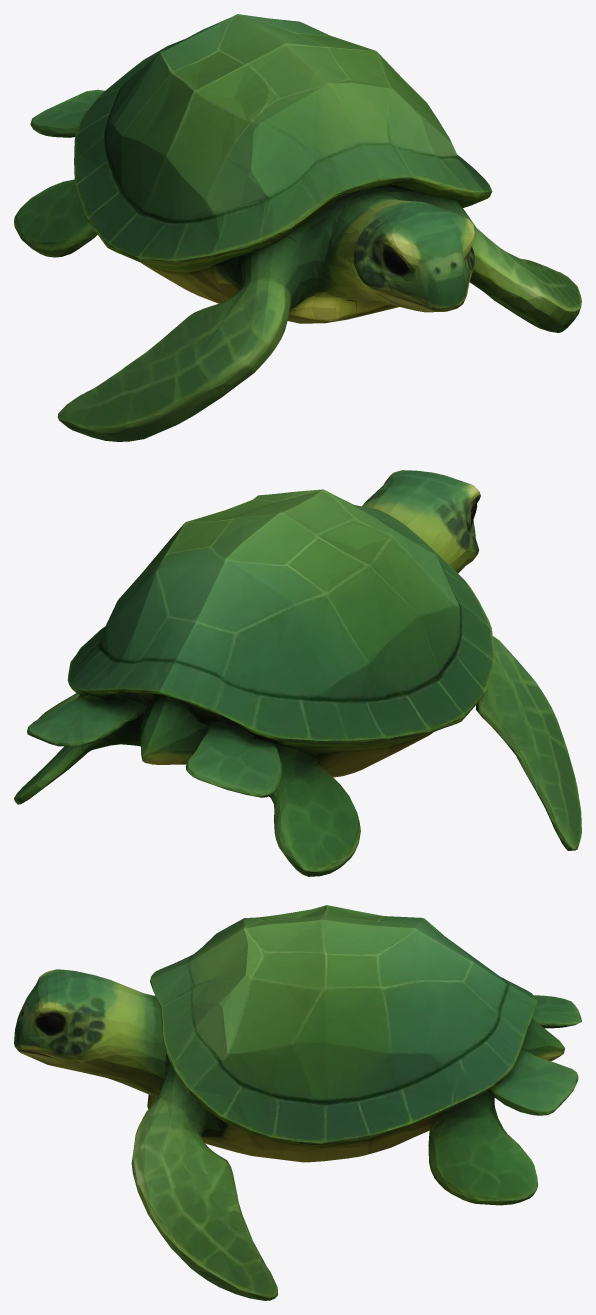
File: aquatic_turtle.glb
3 renders of one model, top to bottom at view 1: azimuth 30°, elevation 25°; view 2: azimuth 150°, elevation 25°; view 3: azimuth 270°, elevation 25°, orthographic. The views are drawn at different scales.
Visible parts, largest first — view 1: world; view 2: world; view 3: world.
Part boxes in pixels (<box>): world: <box>14,14,581,441</box>; world: <box>14,470,581,876</box>; world: <box>14,905,581,1300</box>.
Size of the model in its own units: 0.96 by 0.5271 by 0.9955.
Materials: 1 (1 with a texture image).
